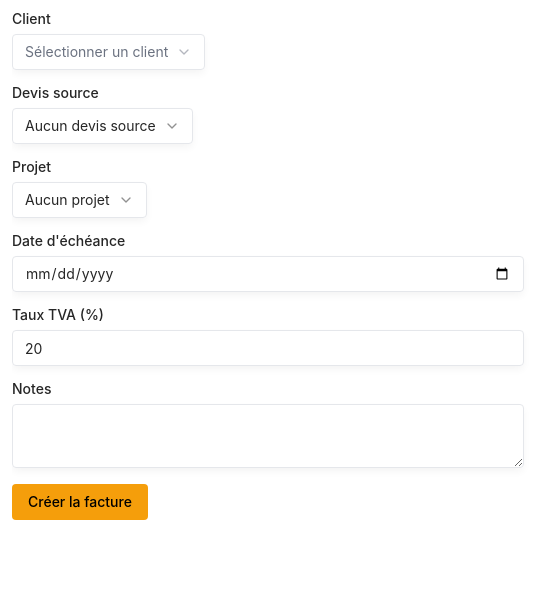
Test: InvoiceForm › contact_select_visible_when_client_selected
Step 1. Click the dropdown with test id "invoice-clientId-select" → (109,52), box [12,34,205,70]
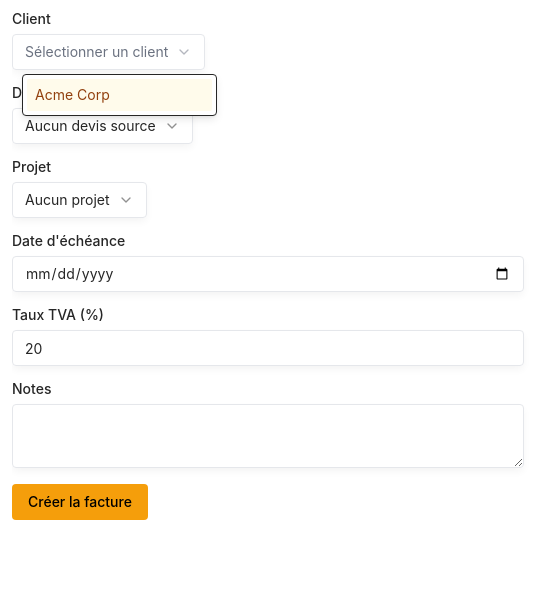
Check: the option "Acme Corp" is shown
Step 2. Click the option "Acme Corp" → (120,95), box [27,79,212,111]
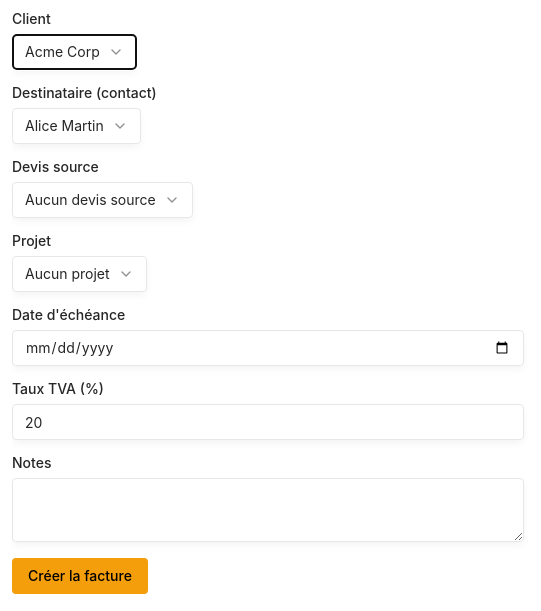
Check: the dropdown with test id "invoice-contactId-select" is shown, box [12,108,141,144]
